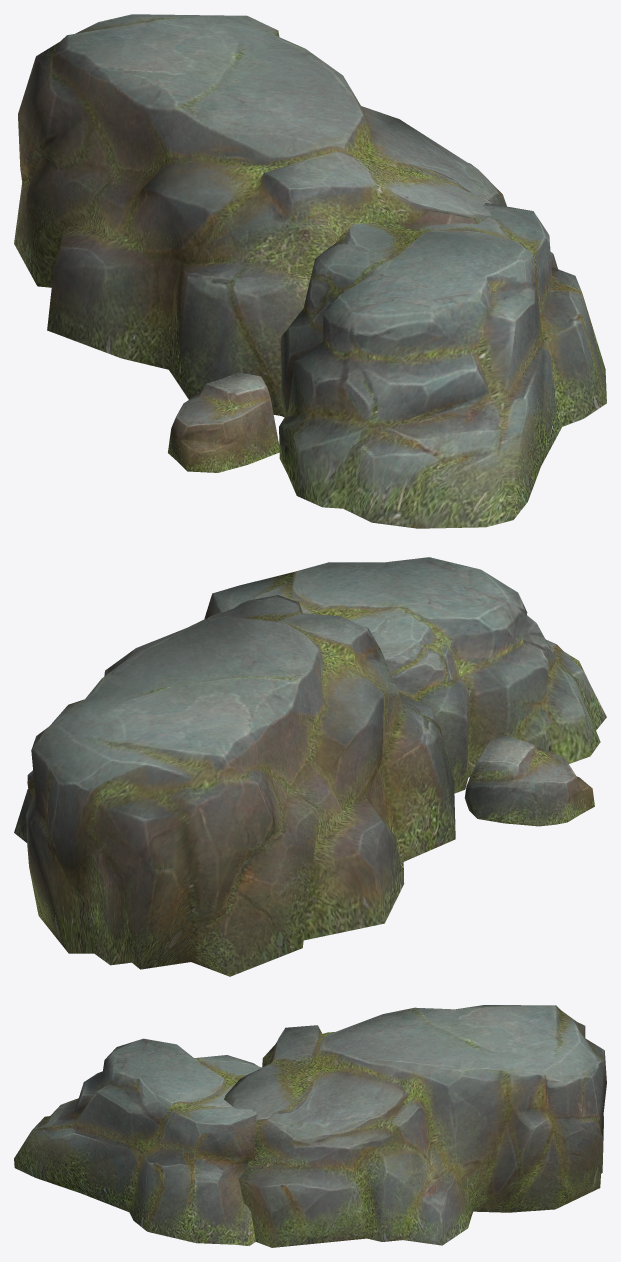
File: wlf_shitou05_w.FBX
3 renders of one model, top to bottom at view 1: azimuth 30°, elevation 25°; view 2: azimuth 150°, elevation 25°; view 3: azimuth 270°, elevation 25°, orthographic. The views are drawn at different scales.
Visible parts, largest first — view 1: wlf_shitou05_w; view 2: wlf_shitou05_w; view 3: wlf_shitou05_w.
Boxes of the visible parts, x1,y1,x2,y2 form: wlf_shitou05_w: (14,14,606,528); wlf_shitou05_w: (14,557,606,976); wlf_shitou05_w: (14,1005,606,1247).
Bounding box in the file's own units: 83.93 × 39.47 × 145.
